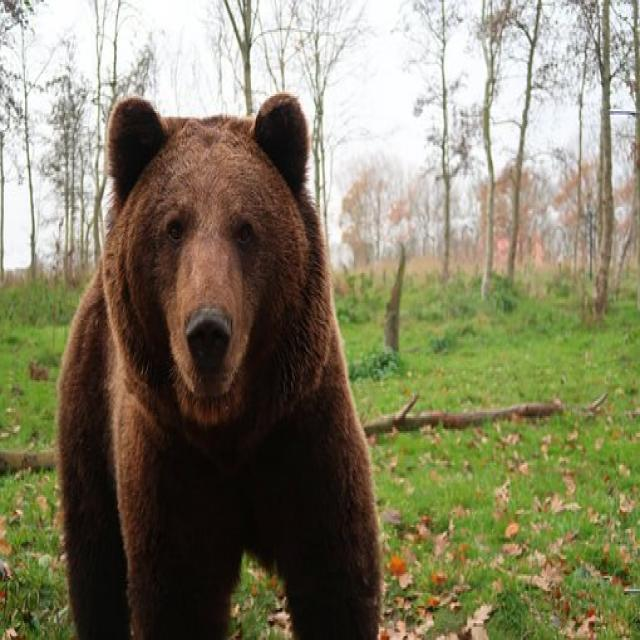Bear: (56, 92, 385, 640)
